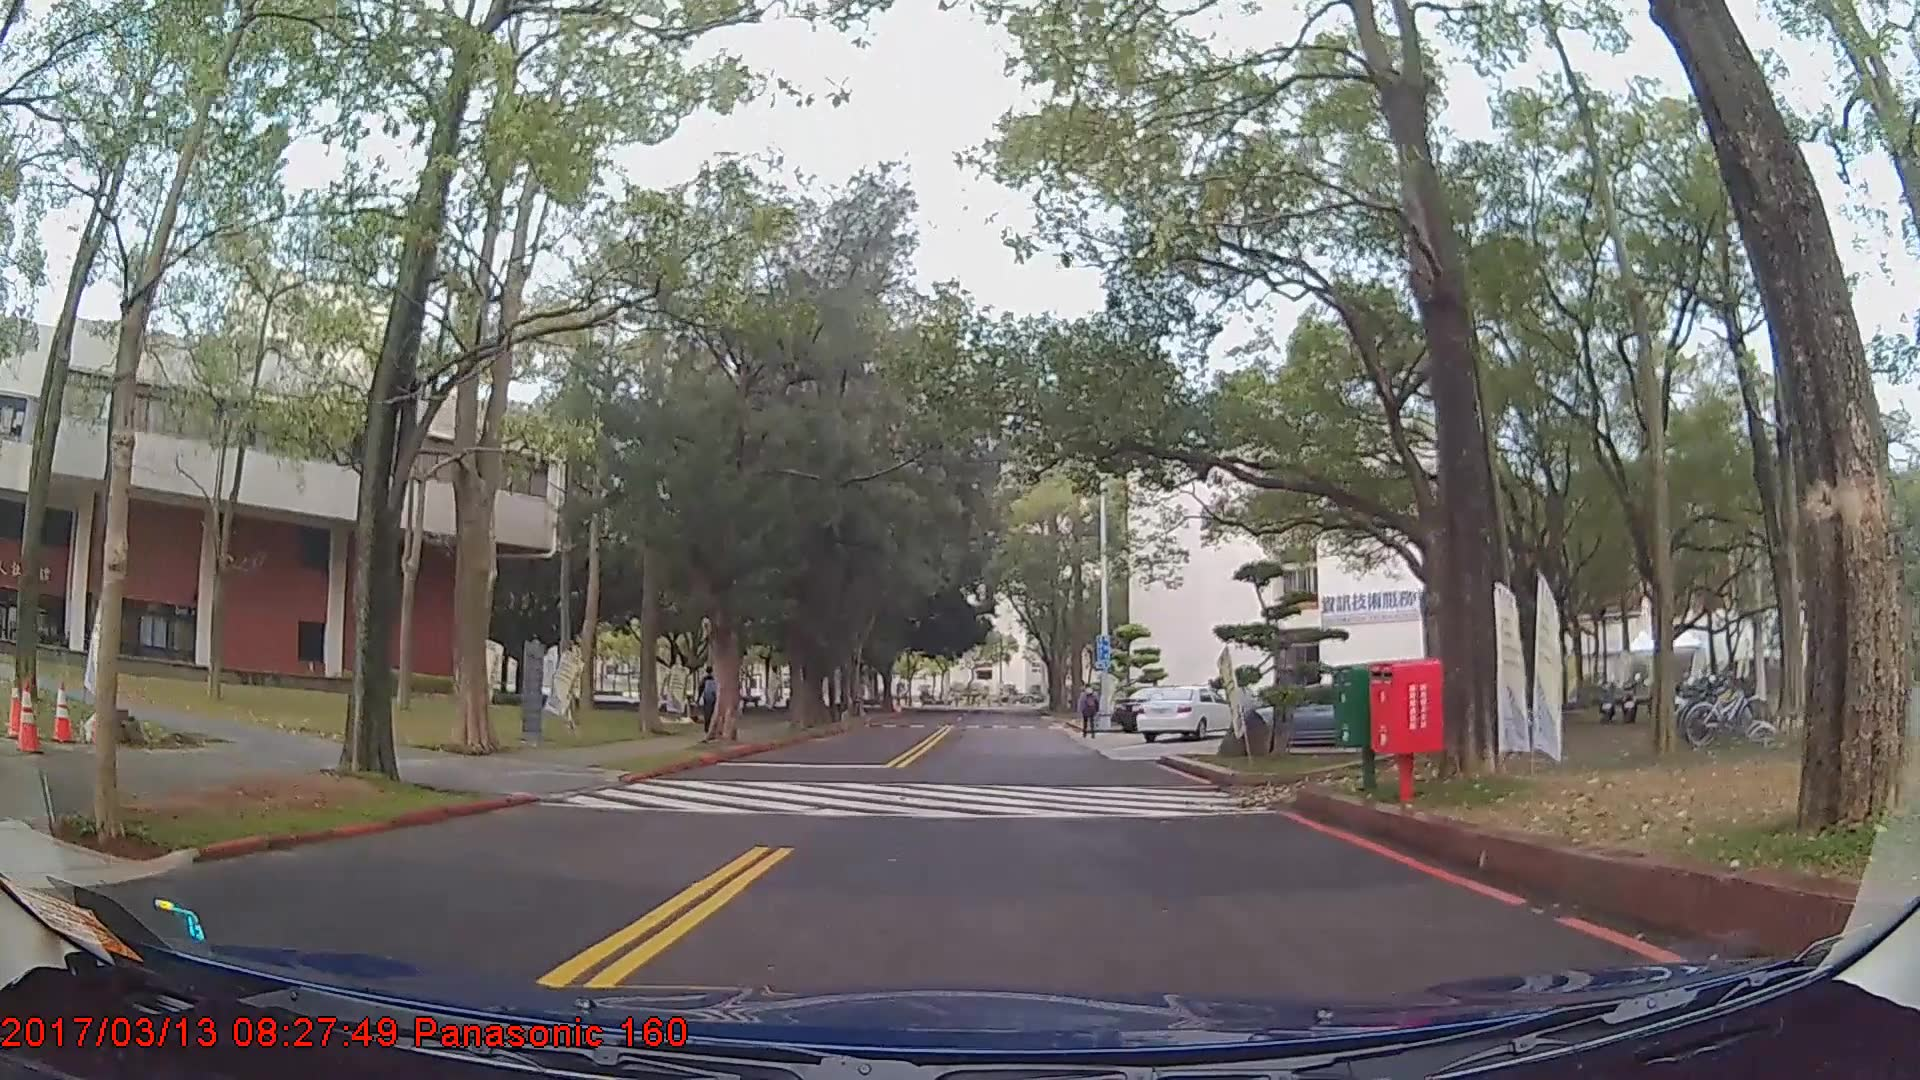pedestrian: (698, 668, 728, 739), (1077, 683, 1102, 739)
vehicle: (1139, 680, 1241, 737)
